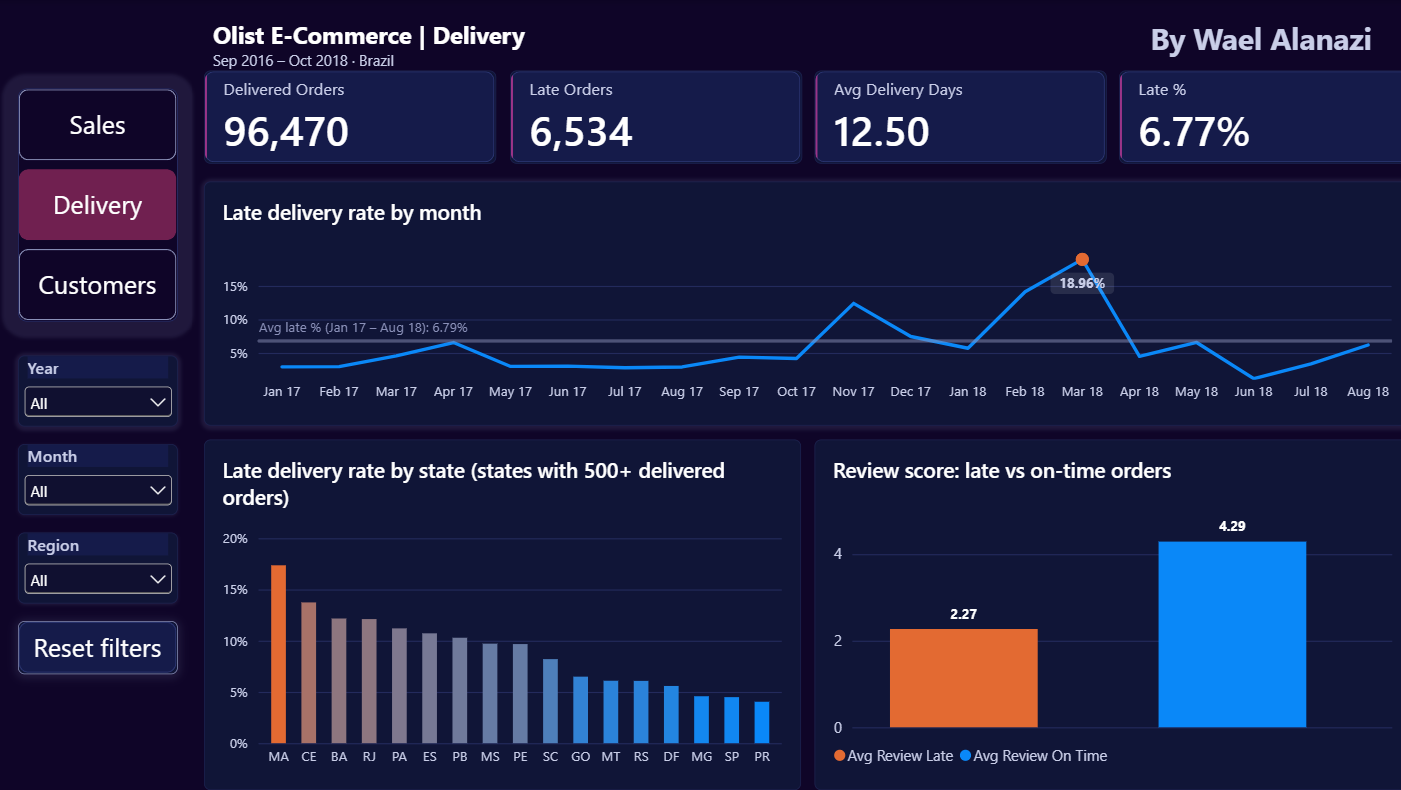

What the dashboard file says about the page in this screenshot:
{"tool":"powerbi","page":{"name":"Delivery ","canvas":[1280,720],"ordinal":1},"visuals":[{"type":"cardVisual","fields":{"Data":["Measures_.Late %"]},"box":[1009,64,263,84],"z":0},{"type":"cardVisual","fields":{"Data":["Measures_.Delivered Orders"]},"box":[184,64,263,84],"z":1000},{"type":"cardVisual","fields":{"Data":["Measures_.Avg Delivery Days"]},"box":[734,64,263,84],"z":2000},{"type":"lineChart","title":"Late delivery rate by month","fields":{"Category":["Date.Month Label"],"Y":["Measures_.Late %","Measures_.Late % Peak"]},"box":[184,164,1088,220],"z":3000},{"type":"clusteredColumnChart","title":"Review score: late vs on-time orders","fields":{"Y":["Measures_.Avg Review Late","Measures_.Avg Review On Time"]},"box":[734,396,538,316],"z":4000},{"type":"columnChart","title":"Late delivery rate by state (states with 500+ delivered orders)","fields":{"Category":["customers.customer_state"],"Y":["Measures_.Late %"]},"box":[184,396,538,316],"z":5000},{"type":"cardVisual","fields":{"Data":["Measures_.Late Orders"]},"box":[459,64,263,84],"z":6000},{"type":"slicer","fields":{"Values":["Date.Year"]},"box":[16,320,144,64],"z":8000},{"type":"slicer","fields":{"Values":["Date.Month"]},"box":[16,400,144,64],"z":9000},{"type":"slicer","fields":{"Values":["customers.region"]},"box":[16,480,144,64],"z":10000},{"type":"textbox","box":[192,16,592,48],"z":12000},{"type":"pageNavigator","box":[16,80,144,210],"z":13001},{"type":"actionButton","title":"Reset filters","box":[16,560,144,48],"z":13002},{"type":"textbox","box":[1008,16,256,48],"z":13004}]}

Visuals, with their boxes in screenshot pixels (x1, y1, x2, y2), scaled from the page's 1280x720 canvas onto the 1401x790 screenshot:
cardVisual - Measures_.Late %: box=[1104, 70, 1392, 162]
cardVisual - Measures_.Delivered Orders: box=[201, 70, 489, 162]
cardVisual - Measures_.Avg Delivery Days: box=[803, 70, 1091, 162]
"Late delivery rate by month" lineChart: box=[201, 180, 1392, 421]
"Review score: late vs on-time orders" clusteredColumnChart: box=[803, 435, 1392, 781]
"Late delivery rate by state (states with 500+ delivered orders)" columnChart: box=[201, 435, 790, 781]
cardVisual - Measures_.Late Orders: box=[502, 70, 790, 162]
slicer - Date.Year: box=[18, 351, 175, 421]
slicer - Date.Month: box=[18, 439, 175, 509]
slicer - customers.region: box=[18, 527, 175, 597]
textbox: box=[210, 18, 858, 70]
pageNavigator: box=[18, 88, 175, 318]
"Reset filters" actionButton: box=[18, 614, 175, 667]
textbox: box=[1103, 18, 1383, 70]
